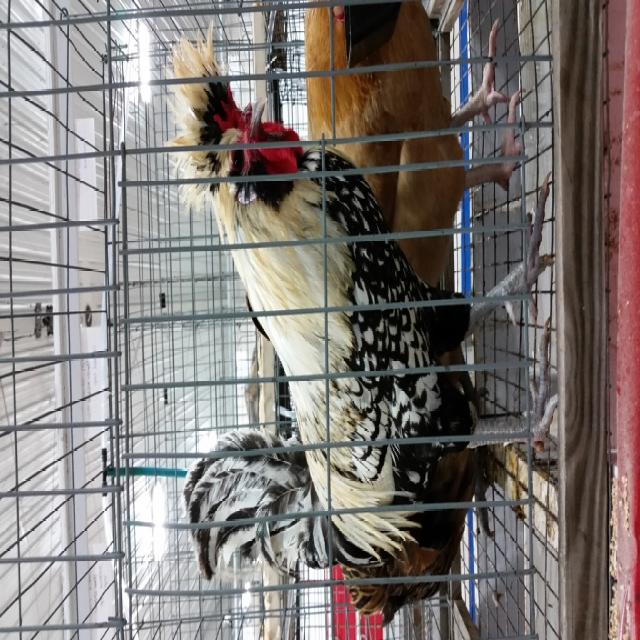Chicken: (162, 21, 560, 563)
